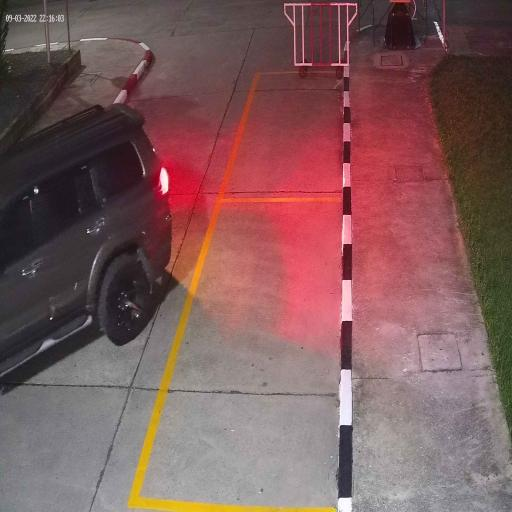car: (0, 101, 173, 376)
